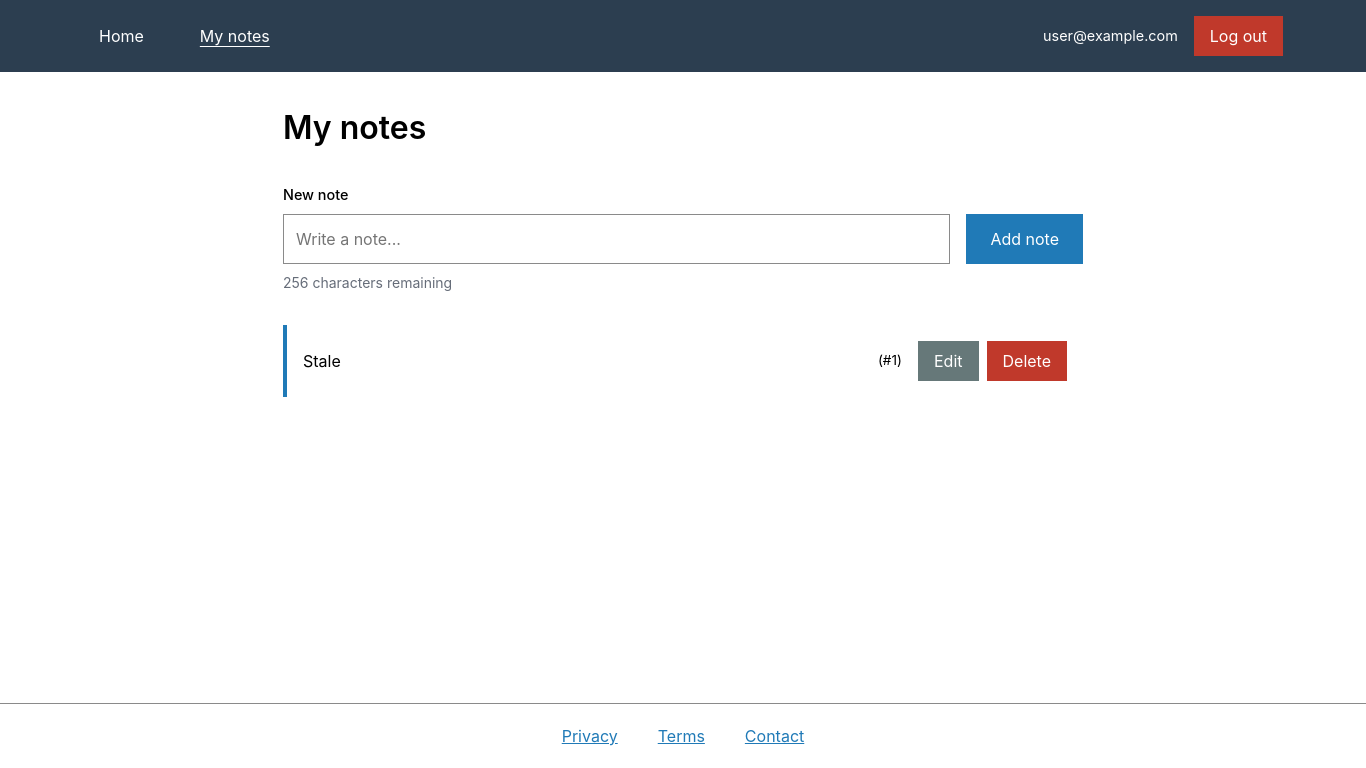
it: Notes, through the whole app › shows the API's message when the note is already gone
The width and height of the screenshot is (1366, 768).
Step 1. Click the button with aria-label "Delete note #1" → (1027, 361), box [986, 341, 1067, 381]
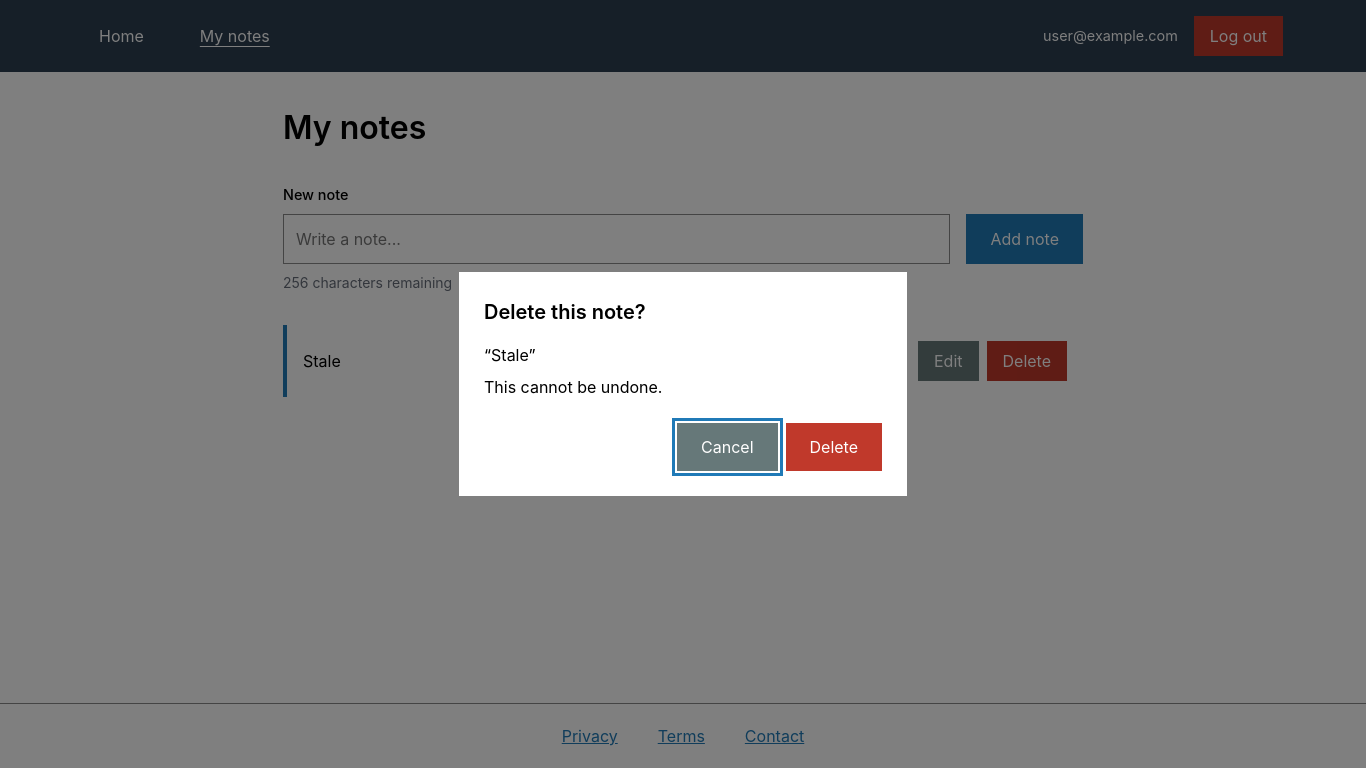
Step 2. Click the button "Delete" → (834, 447), box [786, 423, 882, 471]
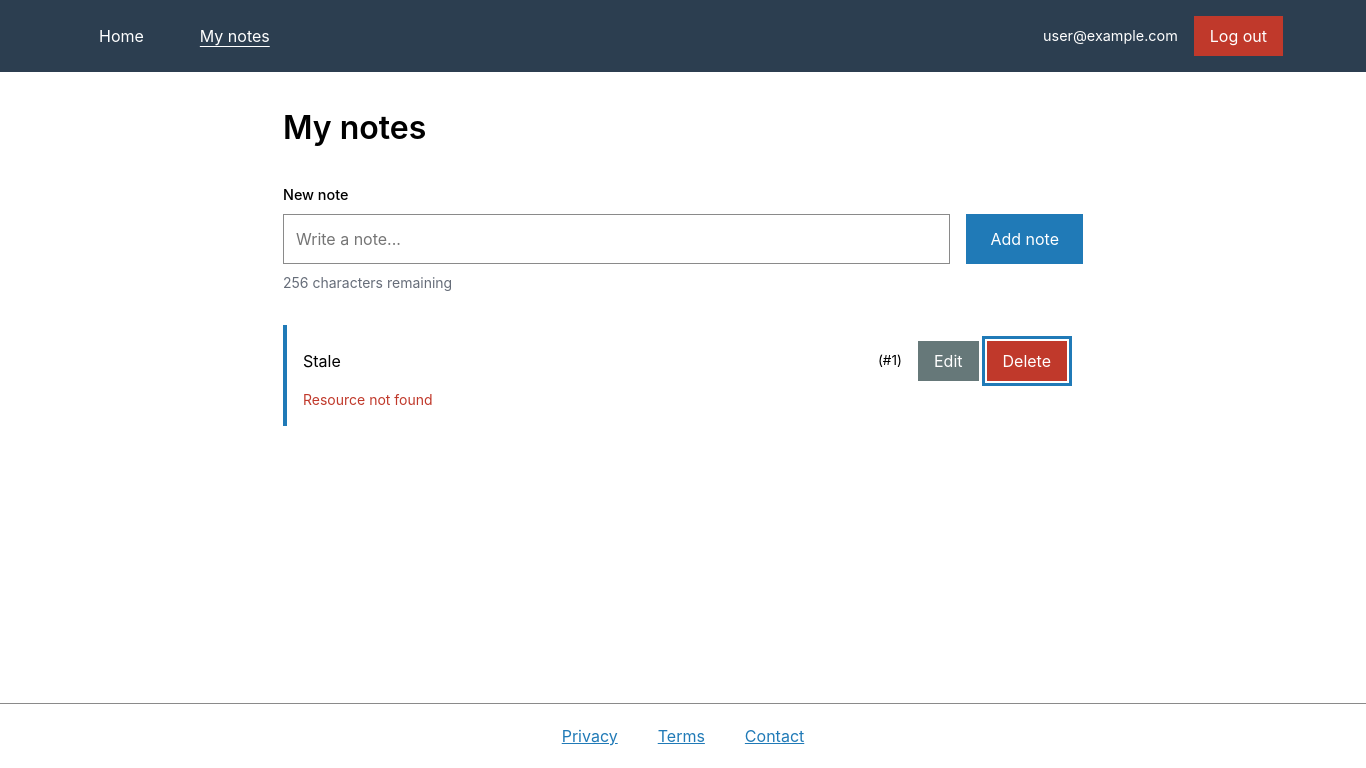
Check: the text "Stale" is shown, box [303, 351, 341, 371]
Check: the message reads "Resource not found", box [303, 391, 433, 408]
